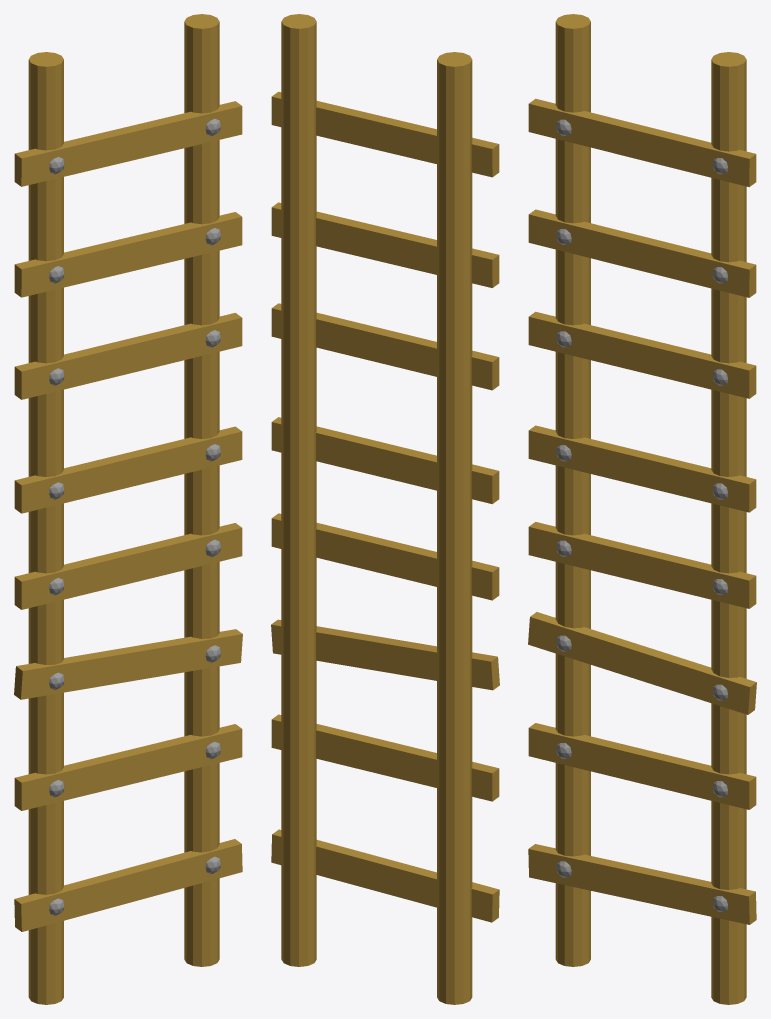
Rendered from ladder lowpolly.fbx.
The picture shows the model from 3 angles, left to right: view 1: azimuth 30°, elevation 25°; view 2: azimuth 150°, elevation 25°; view 3: azimuth 330°, elevation 25°; orthographic projection.
Parts seen in each view (by area): view 1: Cylinder.002, Cylinder.003, Cube, Cube.005, Cube.006, Cube.003, Cube.009, Cube.001, Cube.008, Cube.002; view 2: Cylinder.002, Cylinder.003, Cube, Cube.003, Cube.005, Cube.006, Cube.001, Cube.009, Cube.008, Cube.002; view 3: Cylinder.002, Cylinder.003, Cube.002, Cube.005, Cube.009, Cube.008, Cube.006, Cube.003, Cube.001, Cube.
Boxes of the visible parts, x1,y1,x2,y2 form: Cylinder.002: (184,14,219,966); Cylinder.003: (28,52,63,1004); Cube: (14,839,242,931); Cube.005: (14,426,242,513); Cube.006: (14,312,242,399); Cube.003: (14,523,242,609); Cube.009: (14,212,242,297); Cube.001: (14,724,242,810); Cube.008: (14,101,242,186); Cube.002: (14,629,242,699); Cylinder.002: (281,14,316,966); Cylinder.003: (437,52,472,1004); Cube: (271,829,499,922); Cube.003: (271,513,499,600); Cube.005: (271,417,499,504); Cube.006: (271,303,499,390); Cube.001: (271,714,499,801); Cube.009: (271,202,499,287); Cube.008: (271,91,499,177); Cube.002: (271,619,499,690); Cylinder.002: (711,52,746,1004); Cylinder.003: (555,14,590,966); Cube.002: (528,612,756,714); Cube.005: (528,425,756,512); Cube.009: (528,209,756,297); Cube.008: (528,98,756,187); Cube.006: (528,311,756,398); Cube.003: (528,522,756,608); Cube.001: (528,723,756,809); Cube: (528,844,756,924).
Size of the model in its own units: 55.29 by 223 by 9.26.
